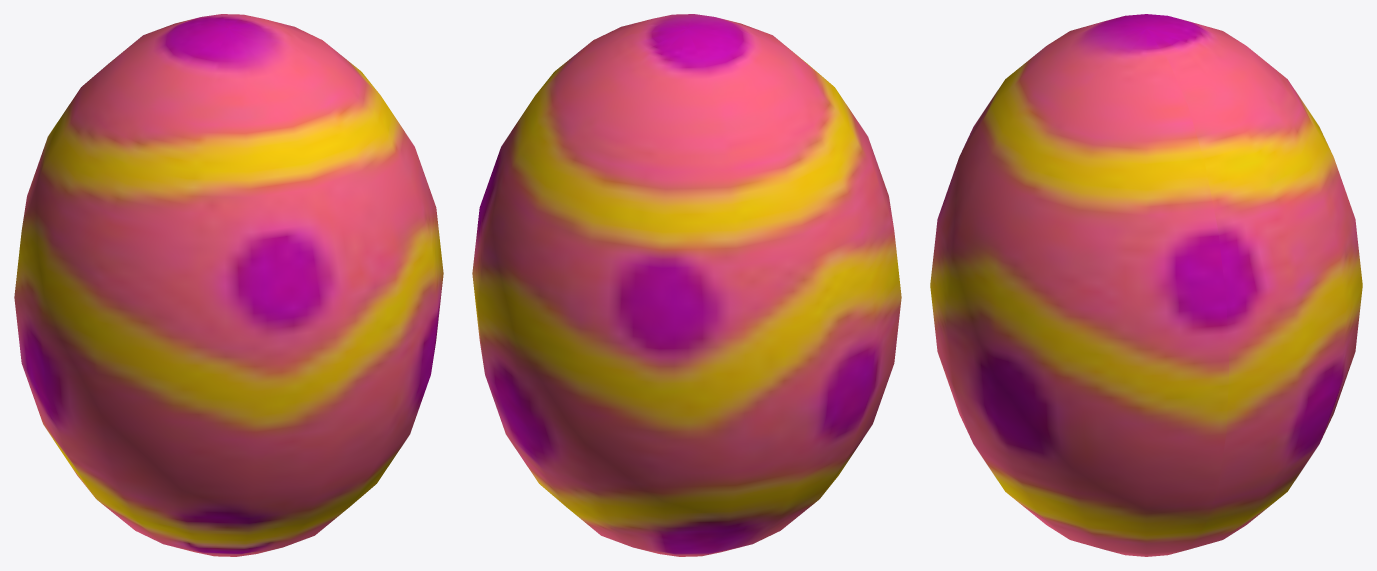
File: egg_03.fbx
3 renders of one model, left to right at view 1: azimuth 30°, elevation 25°; view 2: azimuth 150°, elevation 25°; view 3: azimuth 270°, elevation 25°, orthographic.
Parts seen in each view (by area): view 1: egg_03; view 2: egg_03; view 3: egg_03.
Boxes of the visible parts, x1=… form: egg_03: x1=14, y1=14, x2=443, y2=556; egg_03: x1=472, y1=14, x2=901, y2=556; egg_03: x1=930, y1=14, x2=1362, y2=556.
Bounding box in the file's own units: 9.95 × 13.02 × 9.95.
